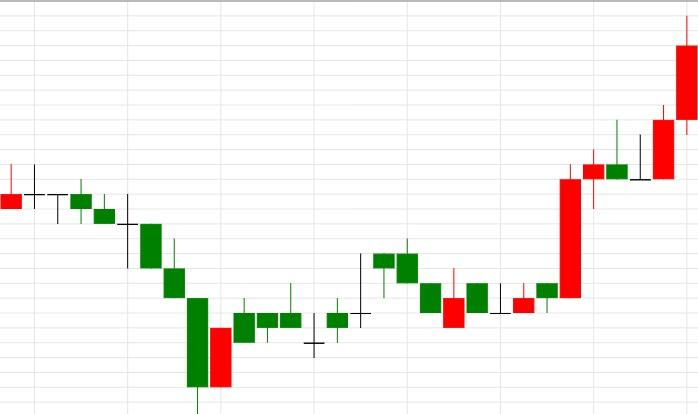hanging_man_fall: (304, 254, 395, 358)
